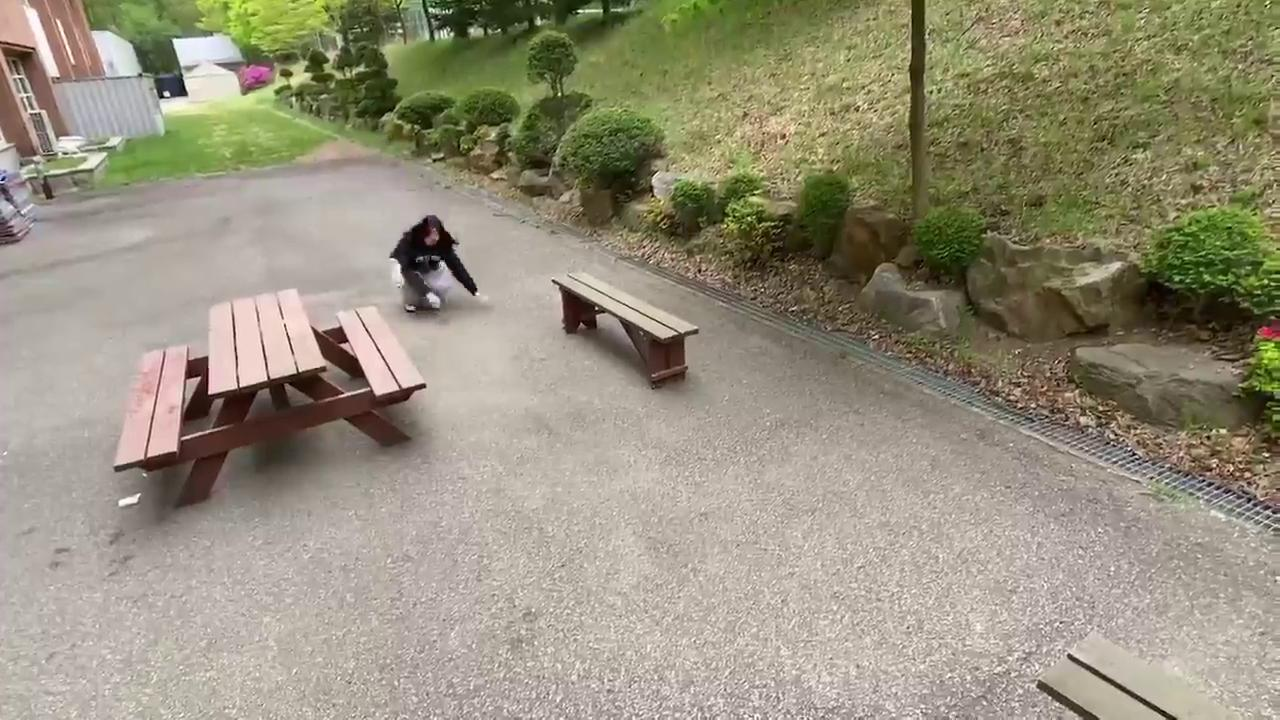fall_down: (388, 212, 496, 314)
